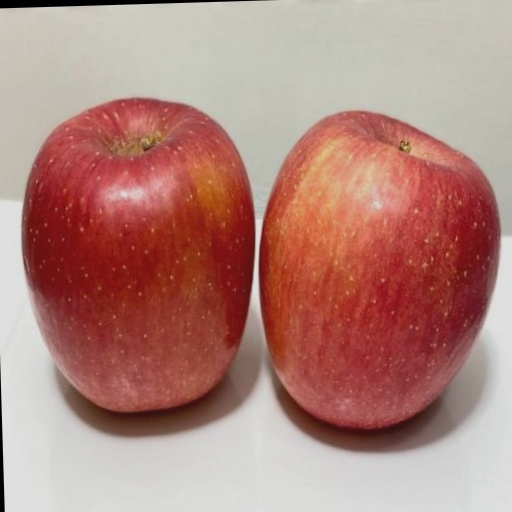fruit: (260, 112, 500, 428), (22, 99, 254, 411)
